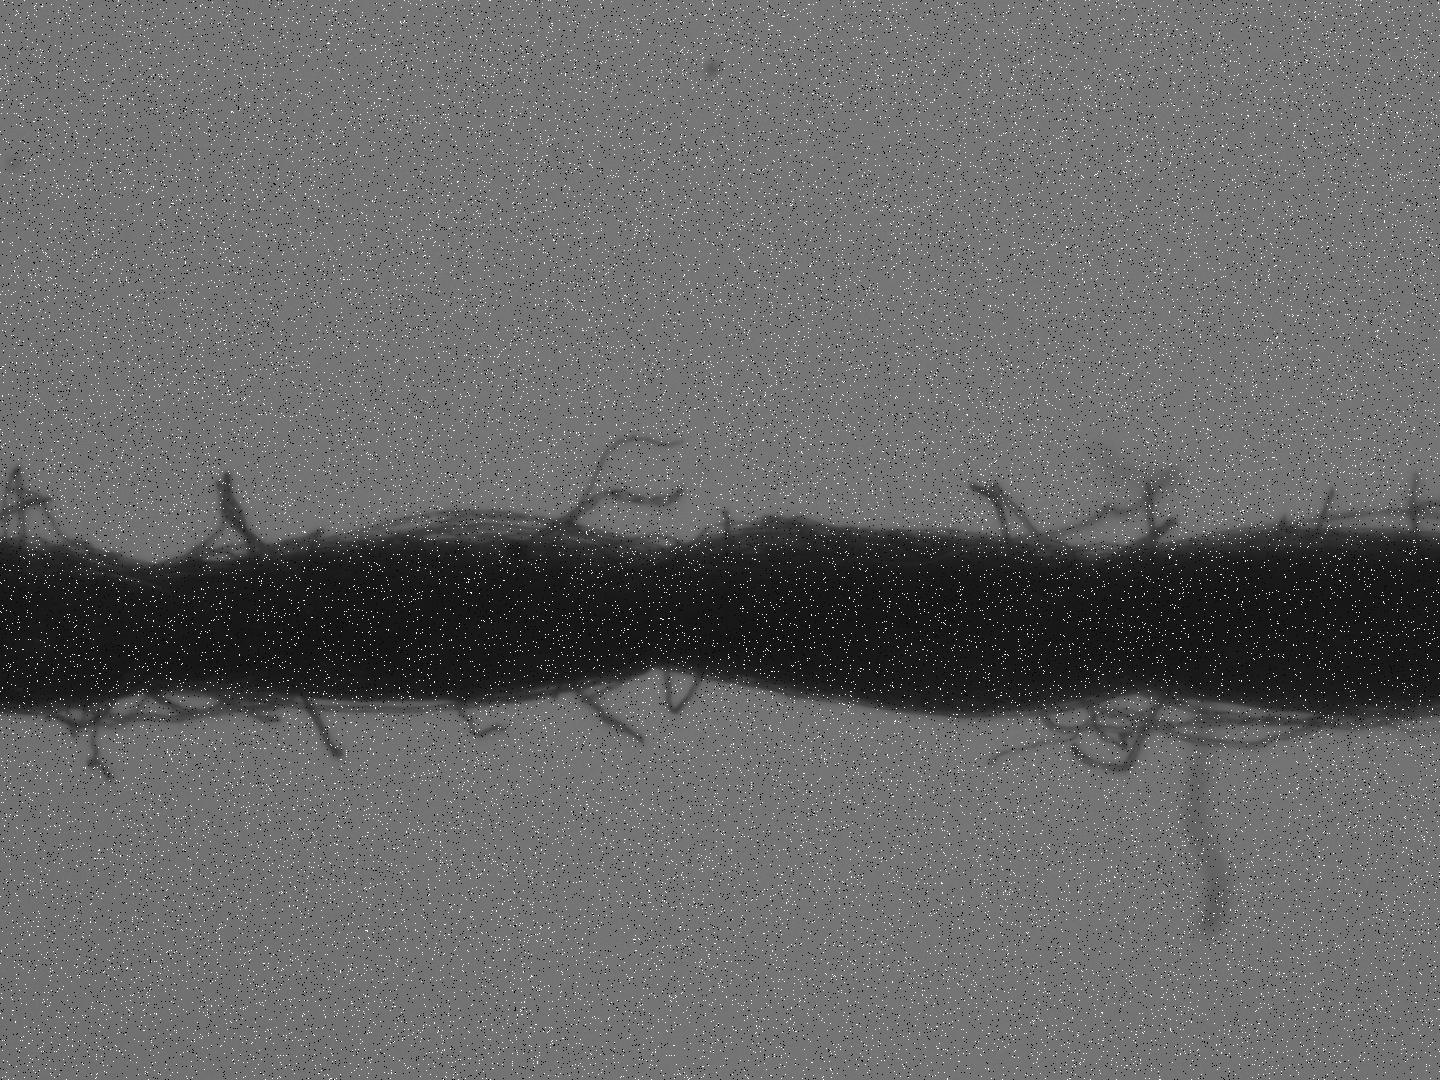loop_fiber: (1090, 694, 1333, 748), (325, 508, 620, 551), (1155, 693, 1418, 733), (1047, 690, 1210, 733), (290, 692, 533, 717), (78, 691, 230, 725), (155, 690, 289, 719), (593, 531, 687, 563), (37, 698, 120, 727), (662, 668, 709, 715), (188, 543, 273, 566)
protruding_fiber: (564, 438, 677, 538), (541, 490, 680, 546), (1076, 693, 1169, 775), (577, 680, 644, 741), (966, 479, 1014, 545), (450, 693, 502, 743), (308, 700, 339, 761), (1310, 484, 1339, 529), (1406, 474, 1422, 539), (1144, 482, 1158, 557)
